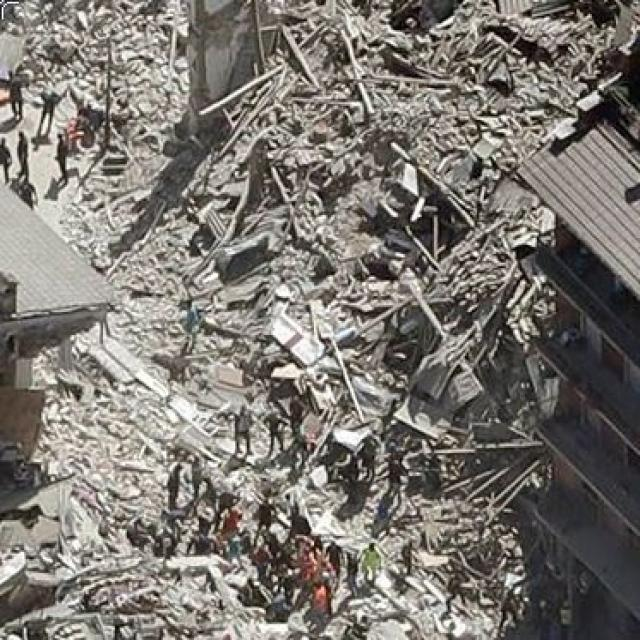collapsed_building: (39, 0, 599, 370), (33, 392, 360, 638)
